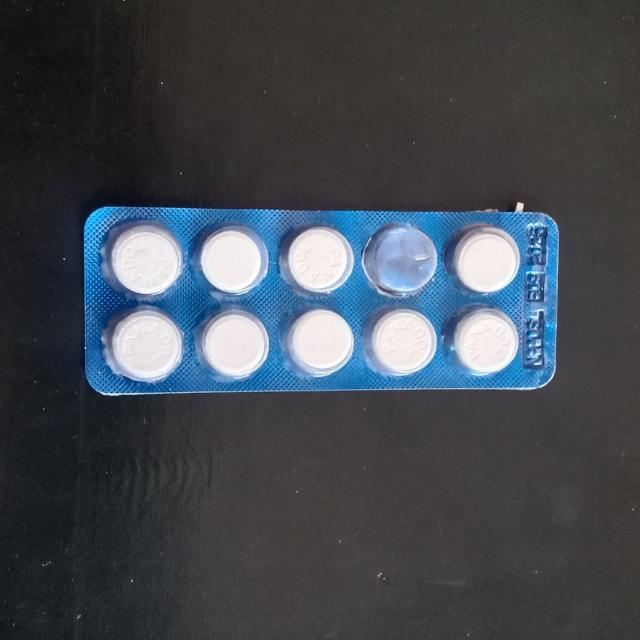defect: (357, 217, 441, 303)
